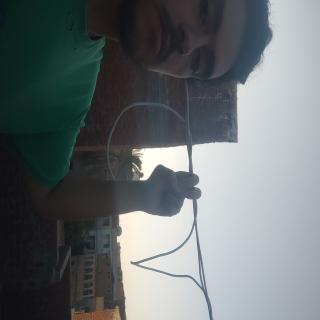QAAF: (121, 154, 166, 239)
